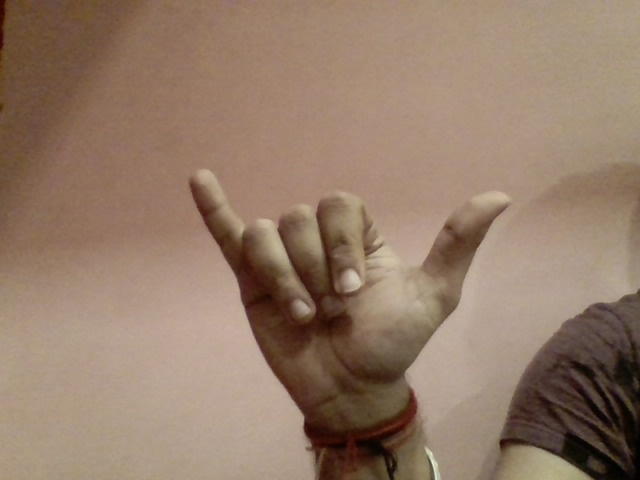y: (165, 144, 527, 405)
